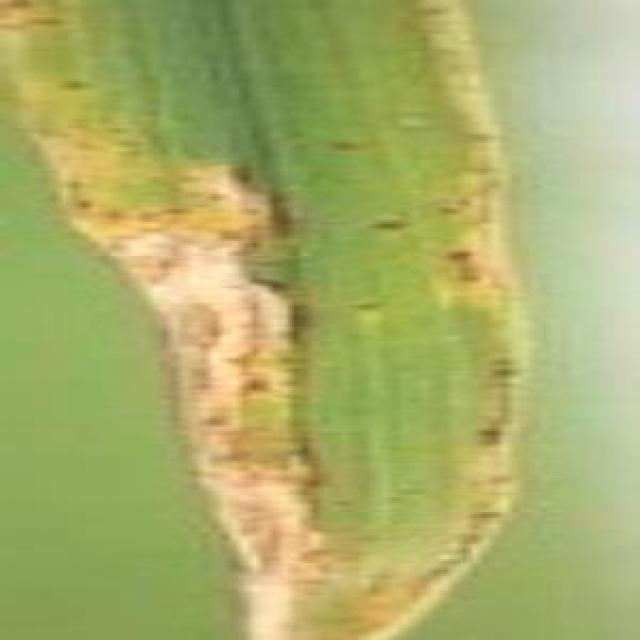Rice_Bacterial_Blight: (90, 11, 503, 616)
